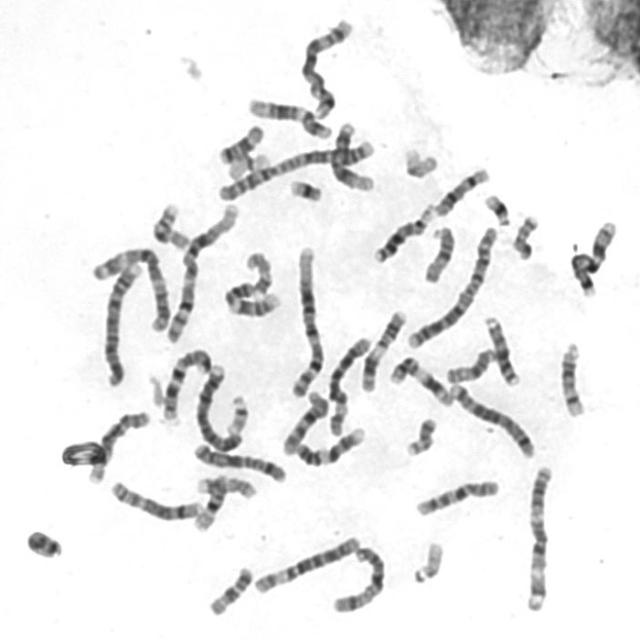A1: (163, 198, 243, 346), (287, 242, 326, 402)
A2: (403, 222, 501, 352), (215, 136, 377, 202)
A3: (88, 241, 173, 333), (521, 459, 556, 614)
B4: (99, 257, 144, 389), (192, 360, 245, 454)
B5: (444, 377, 538, 460), (296, 12, 356, 120)
C10: (410, 474, 502, 520), (279, 387, 331, 457)
C11: (358, 305, 410, 393), (386, 352, 456, 409)
C12: (244, 93, 334, 140), (327, 117, 377, 193)
C6: (249, 531, 364, 596), (324, 332, 373, 438)
C7: (566, 215, 620, 299), (159, 344, 214, 424)
C8: (84, 407, 153, 485), (106, 476, 206, 523)
C9: (292, 422, 368, 468), (220, 276, 284, 320)
D13: (370, 202, 437, 266), (481, 311, 523, 388)
D14: (431, 163, 492, 218), (556, 336, 590, 420)
D15: (421, 221, 457, 285), (442, 344, 498, 385)
E16: (190, 469, 230, 534), (148, 198, 192, 251)
E17: (193, 472, 259, 502), (242, 247, 276, 297)
E18: (205, 561, 255, 618), (216, 120, 266, 164)
F19: (223, 147, 272, 180), (400, 142, 440, 181)
F20: (508, 209, 542, 262), (402, 413, 440, 458)
G21: (481, 189, 513, 228), (285, 174, 325, 204)
G22: (410, 536, 446, 585), (223, 390, 251, 436)
X: (190, 439, 289, 484), (328, 542, 388, 614)
